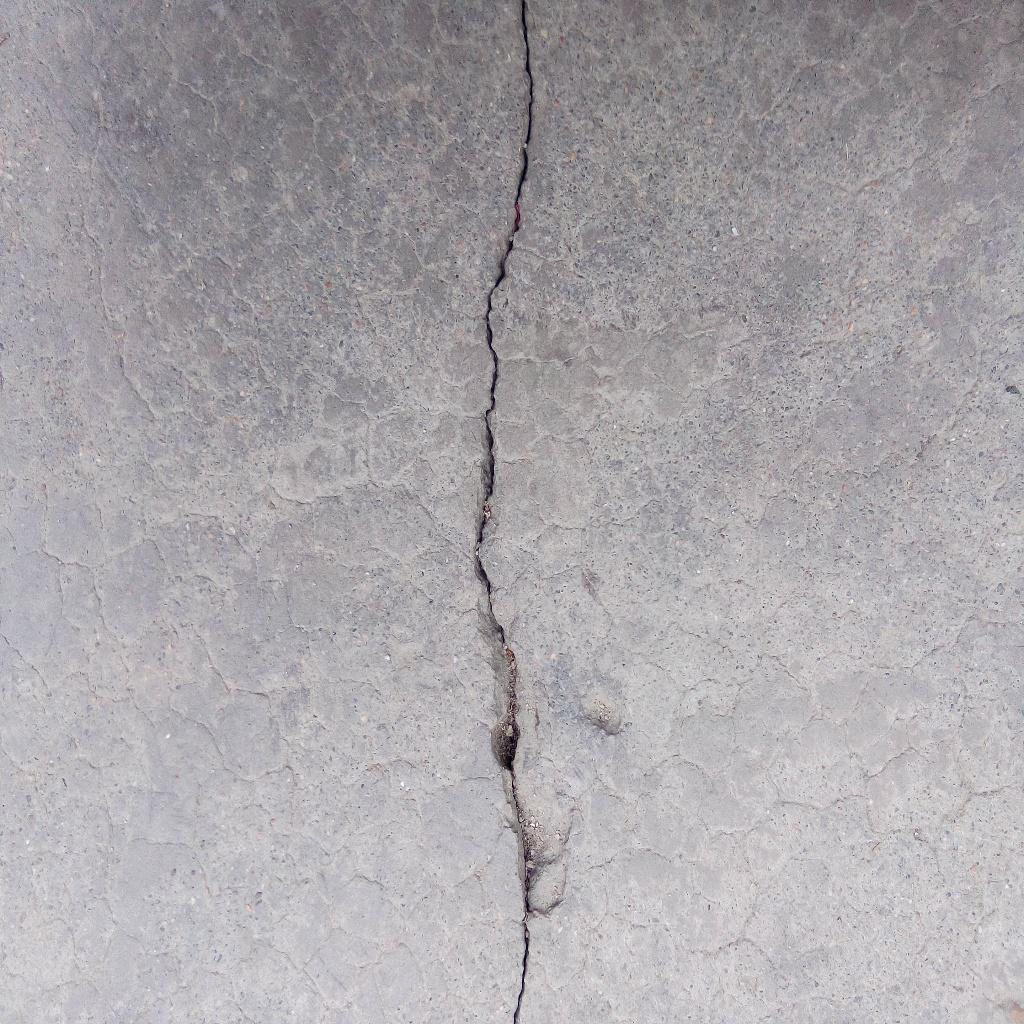Crack: (471, 1, 565, 1024)
